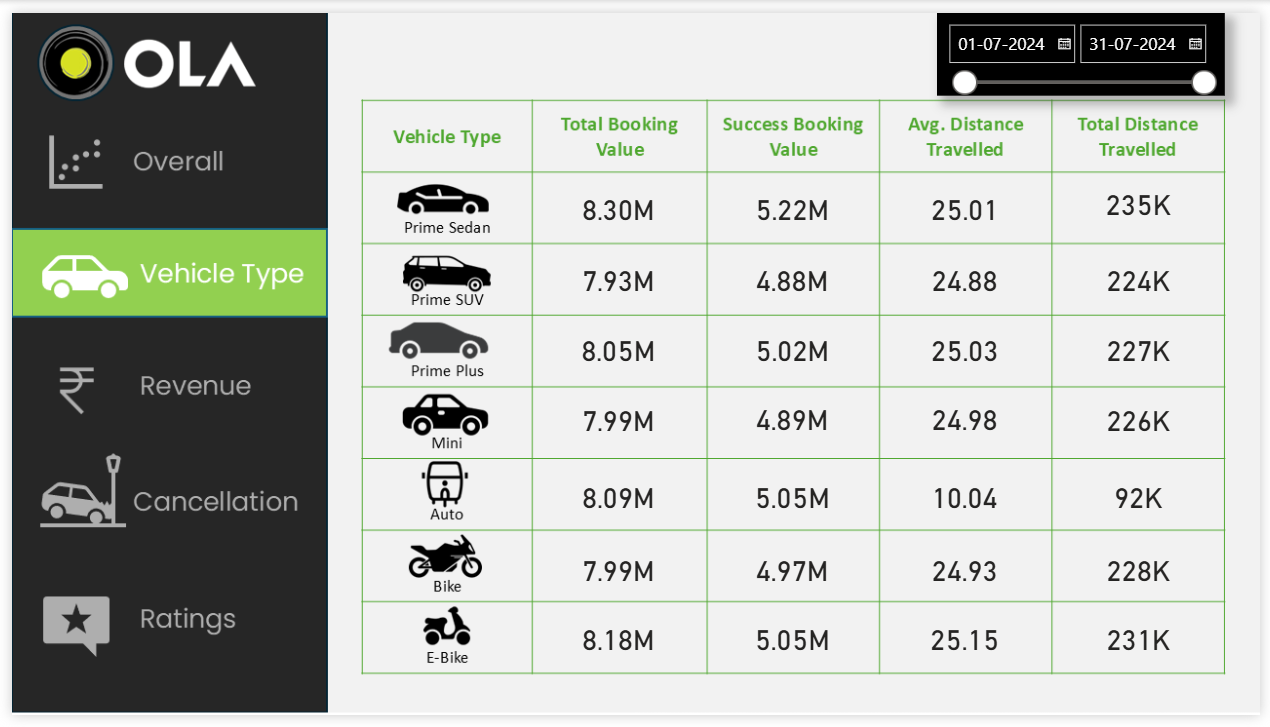

This screenshot's page, from the dashboard's own definition file:
{"tool":"powerbi","page":{"name":"Vehicle Type","canvas":[1280,720],"ordinal":1},"visuals":[{"type":"actionButton","box":[0,220.8,325.7,94.1],"z":0},{"type":"actionButton","box":[0,109.8,325.7,90.5],"z":1000},{"type":"actionButton","box":[0,340.2,325.7,92.9],"z":2000},{"type":"actionButton","box":[0,447.6,325.7,94.1],"z":3000},{"type":"actionButton","box":[0,583.9,325.7,88.1],"z":4000},{"type":"card","fields":{"Values":["Sum(July.Booking_Value)"]},"box":[533.8,165,177.5,70],"z":5000},{"type":"card","fields":{"Values":["Sum(July.Booking_Value)"]},"box":[533.8,243.8,177.5,60],"z":6000},{"type":"card","fields":{"Values":["Sum(July.Booking_Value)"]},"box":[533.8,315,177.5,60],"z":7000},{"type":"card","fields":{"Values":["Sum(July.Booking_Value)"]},"box":[533.8,387.5,177.5,60],"z":8000},{"type":"card","fields":{"Values":["Sum(July.Booking_Value)"]},"box":[533.8,465,177.5,60],"z":9000},{"type":"card","fields":{"Values":["Sum(July.Booking_Value)"]},"box":[533.8,541.2,177.5,60],"z":10000},{"type":"card","fields":{"Values":["Sum(July.Booking_Value)"]},"box":[533.8,611.2,177.5,60],"z":11000},{"type":"card","fields":{"Values":["Sum(July.Booking_Value)"]},"box":[711.2,170,177.5,60],"z":12000},{"type":"card","fields":{"Values":["Sum(July.Booking_Value)"]},"box":[711.2,243.8,177.5,60],"z":13000},{"type":"card","fields":{"Values":["Sum(July.Booking_Value)"]},"box":[711.2,315,177.5,60],"z":14000},{"type":"card","fields":{"Values":["Sum(July.Booking_Value)"]},"box":[711.2,386.2,177.5,60],"z":15000},{"type":"card","fields":{"Values":["Sum(July.Booking_Value)"]},"box":[711.2,465,177.5,60],"z":16000},{"type":"card","fields":{"Values":["Sum(July.Booking_Value)"]},"box":[711.2,541.2,177.5,60],"z":17000},{"type":"card","fields":{"Values":["Sum(July.Booking_Value)"]},"box":[711.2,611.2,177.5,60],"z":18000},{"type":"card","fields":{"Values":["Avg(July.Ride_Distance)"]},"box":[888.8,170,177.5,60],"z":19000},{"type":"card","fields":{"Values":["Avg(July.Ride_Distance)"]},"box":[888.8,243.8,177.5,60],"z":20000},{"type":"card","fields":{"Values":["Avg(July.Ride_Distance)"]},"box":[888.8,315,177.5,60],"z":21000},{"type":"card","fields":{"Values":["Avg(July.Ride_Distance)"]},"box":[888.8,386.2,177.5,60],"z":22000},{"type":"card","fields":{"Values":["Avg(July.Ride_Distance)"]},"box":[888.8,465,177.5,60],"z":23000},{"type":"card","fields":{"Values":["Avg(July.Ride_Distance)"]},"box":[888.8,541.2,177.5,60],"z":24000},{"type":"card","fields":{"Values":["Avg(July.Ride_Distance)"]},"box":[888.8,611.2,177.5,60],"z":25000},{"type":"card","fields":{"Values":["Sum(July.Ride_Distance)"]},"box":[1066.2,165,177.5,60],"z":26000},{"type":"card","fields":{"Values":["Sum(July.Ride_Distance)"]},"box":[1066.2,243.8,177.5,60],"z":27000},{"type":"card","fields":{"Values":["Sum(July.Ride_Distance)"]},"box":[1066.2,315,177.5,60],"z":28000},{"type":"card","fields":{"Values":["Sum(July.Ride_Distance)"]},"box":[1066.2,387.5,177.5,60],"z":29000},{"type":"card","fields":{"Values":["Sum(July.Ride_Distance)"]},"box":[1066.2,465,177.5,60],"z":30000},{"type":"card","fields":{"Values":["Sum(July.Ride_Distance)"]},"box":[1066.2,541.2,177.5,60],"z":31000},{"type":"card","fields":{"Values":["Sum(July.Ride_Distance)"]},"box":[1066.2,611.2,177.5,60],"z":32000},{"type":"slicer","title":"Date","fields":{"Values":["July.Date"]},"box":[948.8,0,295,85],"z":33000}]}

Visuals, with their boxes on the page's 1280x720 design canvas (x1, y1, x2, y2). These are canvas units, not pixel positions in the 1270x727 screenshot, which may show the page scaled, cropped or inside an application window:
actionButton: [left=0, top=221, right=326, bottom=315]
actionButton: [left=0, top=110, right=326, bottom=200]
actionButton: [left=0, top=340, right=326, bottom=433]
actionButton: [left=0, top=448, right=326, bottom=542]
actionButton: [left=0, top=584, right=326, bottom=672]
card - Sum(July.Booking_Value): [left=534, top=165, right=711, bottom=235]
card - Sum(July.Booking_Value): [left=534, top=244, right=711, bottom=304]
card - Sum(July.Booking_Value): [left=534, top=315, right=711, bottom=375]
card - Sum(July.Booking_Value): [left=534, top=388, right=711, bottom=448]
card - Sum(July.Booking_Value): [left=534, top=465, right=711, bottom=525]
card - Sum(July.Booking_Value): [left=534, top=541, right=711, bottom=601]
card - Sum(July.Booking_Value): [left=534, top=611, right=711, bottom=671]
card - Sum(July.Booking_Value): [left=711, top=170, right=889, bottom=230]
card - Sum(July.Booking_Value): [left=711, top=244, right=889, bottom=304]
card - Sum(July.Booking_Value): [left=711, top=315, right=889, bottom=375]
card - Sum(July.Booking_Value): [left=711, top=386, right=889, bottom=446]
card - Sum(July.Booking_Value): [left=711, top=465, right=889, bottom=525]
card - Sum(July.Booking_Value): [left=711, top=541, right=889, bottom=601]
card - Sum(July.Booking_Value): [left=711, top=611, right=889, bottom=671]
card - Avg(July.Ride_Distance): [left=889, top=170, right=1066, bottom=230]
card - Avg(July.Ride_Distance): [left=889, top=244, right=1066, bottom=304]
card - Avg(July.Ride_Distance): [left=889, top=315, right=1066, bottom=375]
card - Avg(July.Ride_Distance): [left=889, top=386, right=1066, bottom=446]
card - Avg(July.Ride_Distance): [left=889, top=465, right=1066, bottom=525]
card - Avg(July.Ride_Distance): [left=889, top=541, right=1066, bottom=601]
card - Avg(July.Ride_Distance): [left=889, top=611, right=1066, bottom=671]
card - Sum(July.Ride_Distance): [left=1066, top=165, right=1244, bottom=225]
card - Sum(July.Ride_Distance): [left=1066, top=244, right=1244, bottom=304]
card - Sum(July.Ride_Distance): [left=1066, top=315, right=1244, bottom=375]
card - Sum(July.Ride_Distance): [left=1066, top=388, right=1244, bottom=448]
card - Sum(July.Ride_Distance): [left=1066, top=465, right=1244, bottom=525]
card - Sum(July.Ride_Distance): [left=1066, top=541, right=1244, bottom=601]
card - Sum(July.Ride_Distance): [left=1066, top=611, right=1244, bottom=671]
"Date" slicer: [left=949, top=0, right=1244, bottom=85]
